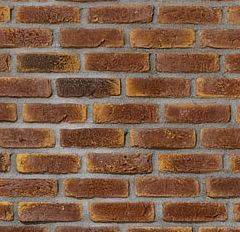brick: (15, 199, 84, 224), (88, 200, 159, 224), (160, 201, 231, 225), (123, 74, 193, 97), (58, 126, 128, 149), (21, 101, 90, 124), (85, 151, 154, 174), (162, 102, 233, 124), (127, 128, 198, 150), (84, 51, 150, 74), (92, 103, 161, 125), (13, 153, 83, 174), (132, 175, 202, 196), (60, 26, 126, 48), (16, 53, 82, 75), (56, 74, 122, 96), (157, 151, 226, 172), (156, 52, 218, 74), (62, 177, 133, 196), (1, 126, 59, 149), (88, 4, 154, 24), (15, 5, 82, 24), (131, 28, 197, 47), (192, 75, 240, 100), (157, 5, 222, 23), (1, 179, 61, 197), (1, 28, 55, 47), (1, 77, 55, 96), (204, 174, 240, 199), (198, 28, 240, 49), (201, 129, 240, 150), (1, 101, 19, 123), (226, 5, 240, 25), (1, 5, 11, 24)
